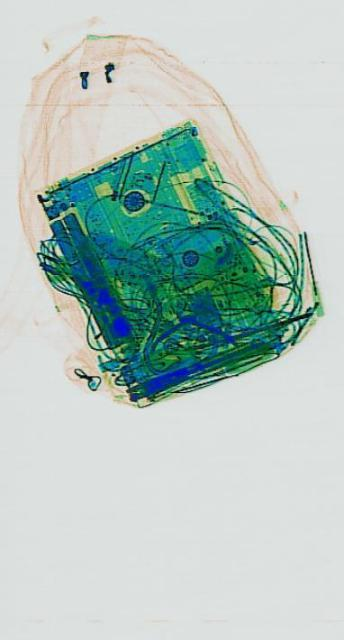Pliers: (148, 306, 234, 354)
